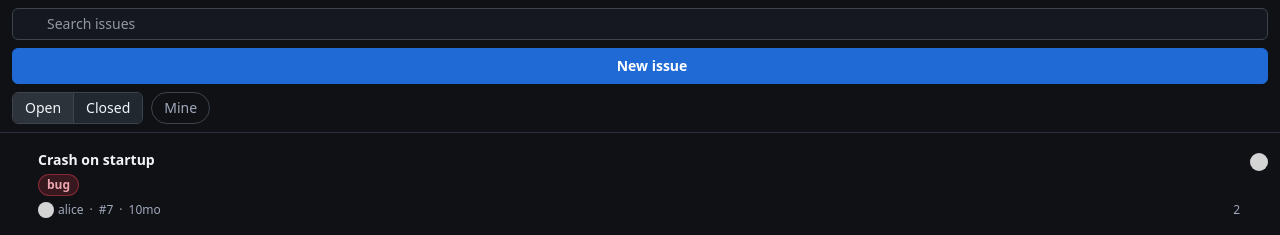
Test: remembers each filter's own result
This screenshot has width=1280, height=235.
Click the button "Closed": click(108, 108) [73,93,142,123]
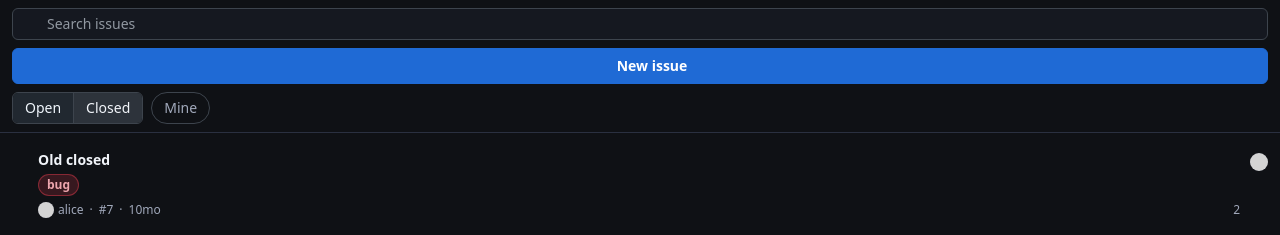
Result: the text "Old closed" is shown at [38,150,110,169]
Click the button "Open": click(43, 108) [13,93,73,123]
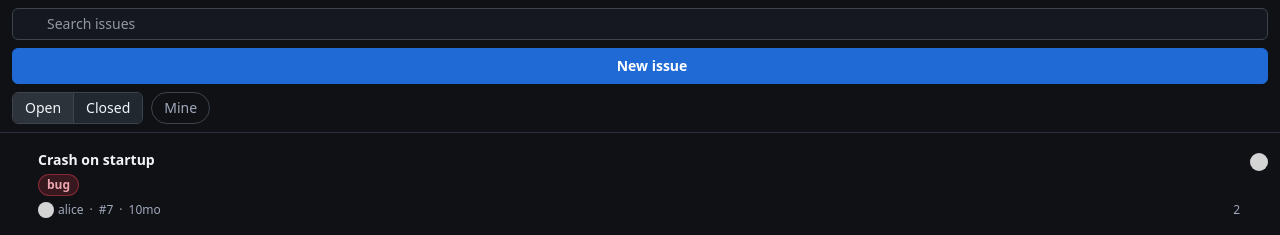
Result: the text "Crash on startup" is shown at [38,150,155,169]
